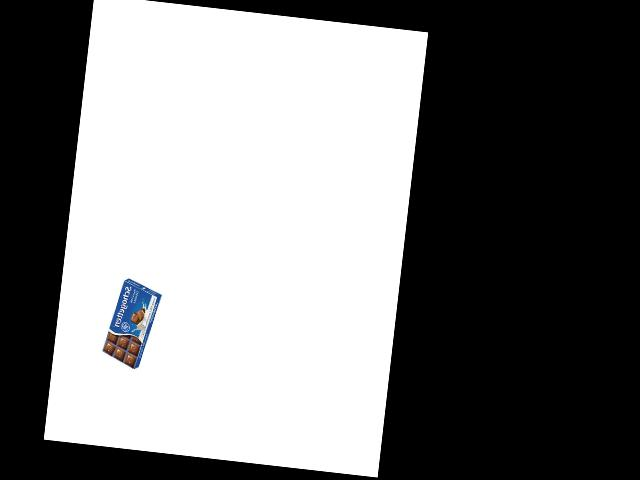chocolate: (100, 274, 156, 371)
